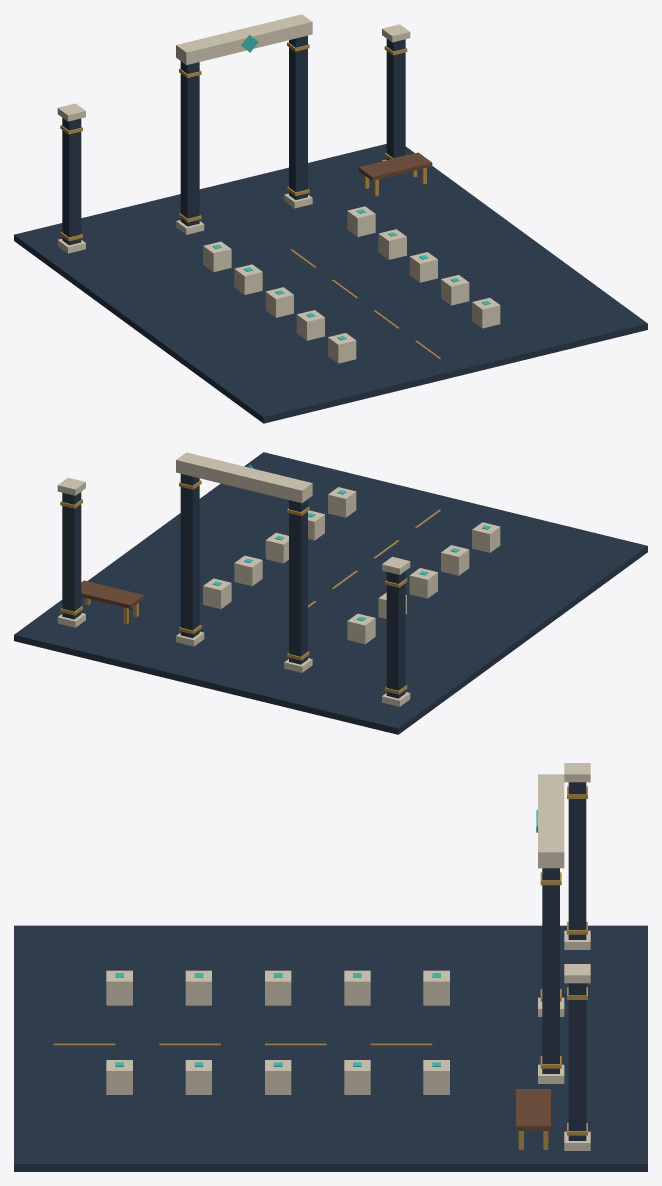
The model's file is charter_gate.glb.
3 views of the same model, one above another, from view 1: azimuth 30°, elevation 25°; view 2: azimuth 150°, elevation 25°; view 3: azimuth 270°, elevation 25° (orthographic). The views are drawn at different scales.
Parts seen in each view (by area): view 1: charter_gate; view 2: charter_gate; view 3: charter_gate.
Part boxes in pixels (x1,y1,x2,y2): charter_gate: [14, 14, 647, 423]; charter_gate: [14, 452, 647, 734]; charter_gate: [14, 763, 647, 1171].
Size of the model in its own units: 64 by 30.41 by 72.
